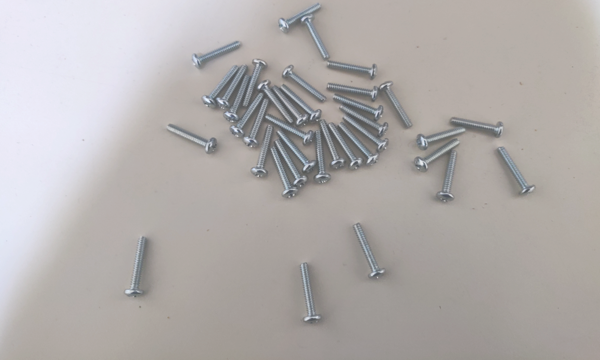longscrew: (498, 148, 538, 195), (437, 151, 470, 207), (296, 261, 325, 323), (356, 221, 384, 283), (379, 82, 415, 130), (331, 121, 364, 172), (279, 130, 319, 172), (276, 139, 310, 188), (271, 146, 300, 202), (342, 116, 389, 150), (414, 142, 463, 174), (282, 62, 322, 101), (164, 125, 219, 153), (202, 68, 240, 108), (266, 114, 314, 145), (233, 91, 263, 139), (193, 37, 242, 66), (127, 235, 148, 302), (340, 123, 377, 161), (284, 82, 321, 120), (335, 92, 385, 119), (452, 114, 509, 137), (321, 122, 346, 174), (261, 80, 291, 122), (275, 85, 305, 127), (340, 107, 388, 133), (245, 99, 269, 150), (219, 65, 246, 109), (279, 3, 320, 29), (327, 57, 380, 77), (327, 79, 380, 99), (242, 59, 264, 107), (303, 18, 329, 58), (316, 130, 333, 190), (254, 124, 271, 180), (228, 77, 249, 121), (414, 130, 466, 147)
